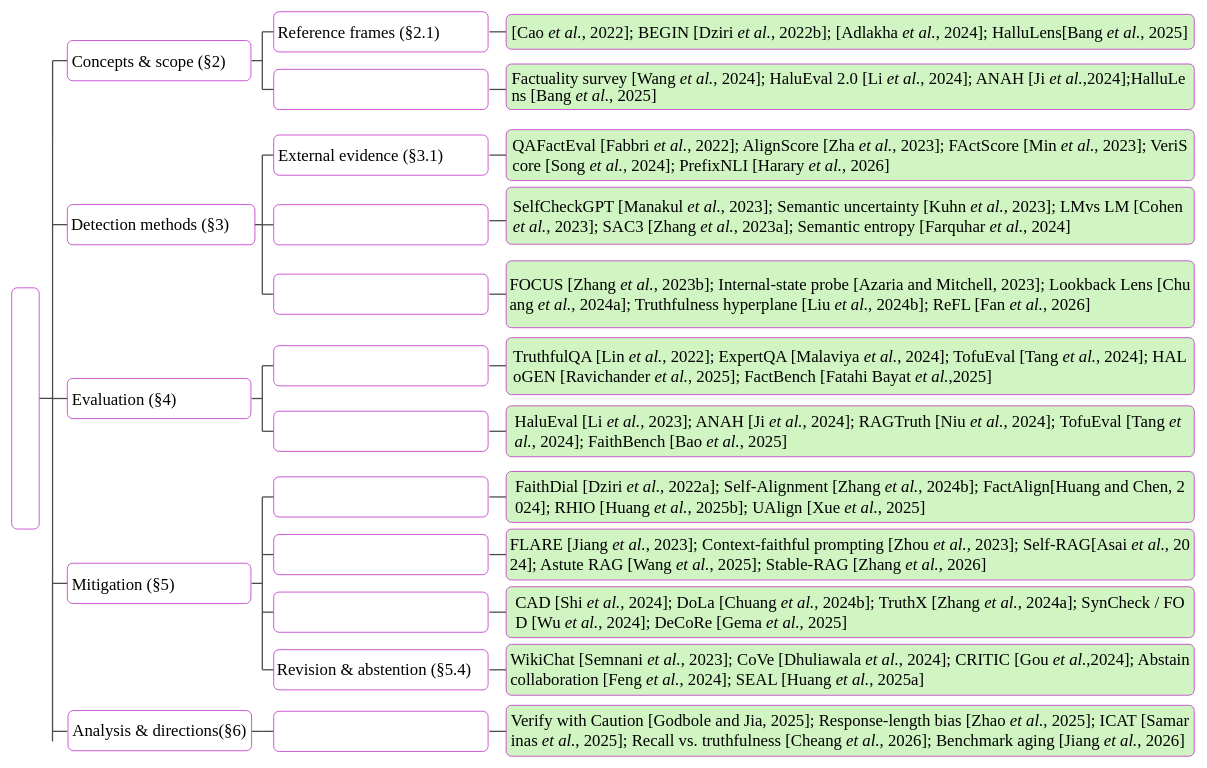
Some shapes in this 1207 by 768 pixel diagram are drawn without their labels. Each missing label, with the centre of its shape:
Benefits, limits & next steps: (x=380, y=731)
Decoding & intervention (§5.3): (x=380, y=611)
Detector evaluation (§4.2): (x=380, y=431)
Error relations & history (§2.2): (x=380, y=89)
Generation evaluation (§4.1): (x=380, y=365)
Hallucination in text LLMs: (x=25, y=408)
Internal signals (§3.3): (x=380, y=293)
Retrieval & prompting (§5.2): (x=380, y=554)
Sampling & consistency (§3.2): (x=380, y=224)
Training & alignment (§5.1): (x=380, y=496)
